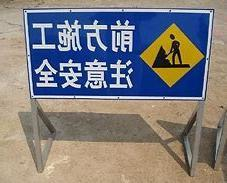sign: (24, 9, 212, 99)
